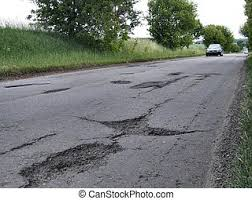potholes: (94, 101, 176, 145)
